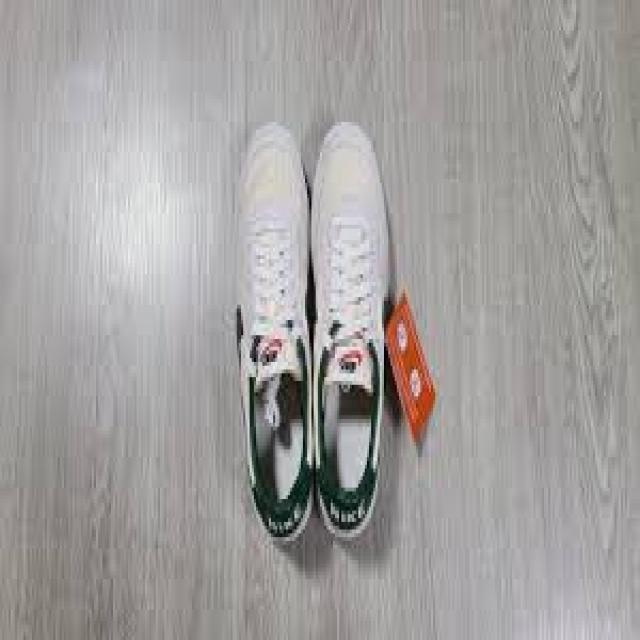shoe: (231, 116, 324, 552), (306, 118, 391, 544)
